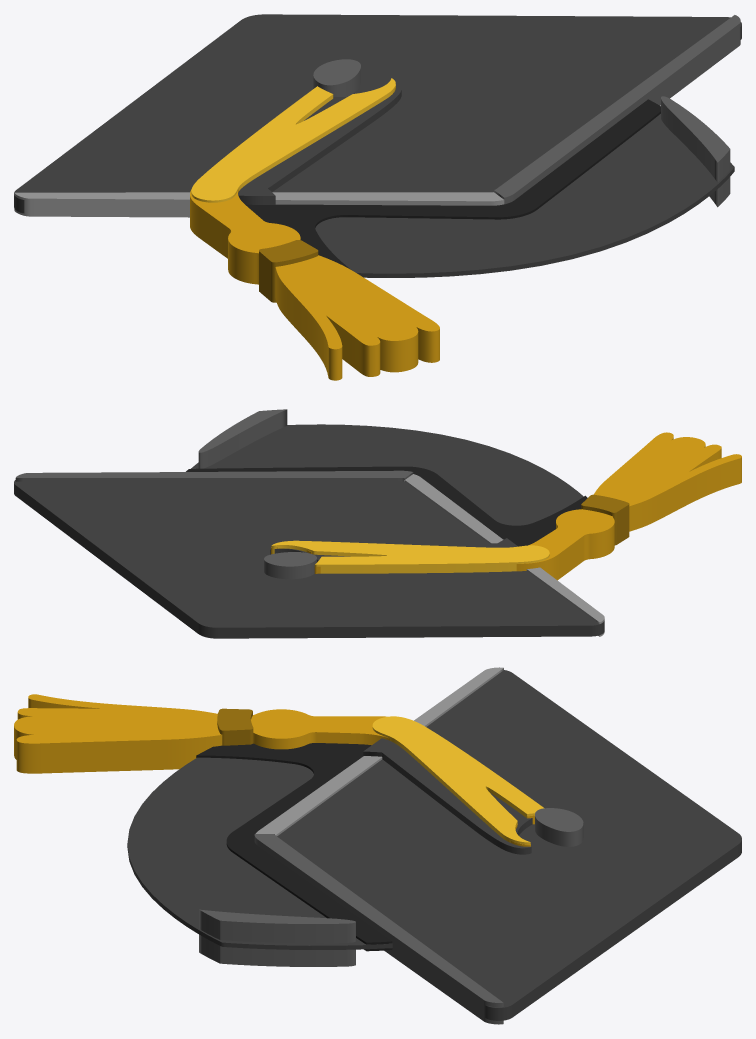
Rendered from emoji_u1f393.glb.
The picture shows the model from 3 angles, top to bottom: view 1: azimuth 30°, elevation 25°; view 2: azimuth 150°, elevation 25°; view 3: azimuth 270°, elevation 25°; orthographic projection. The views are drawn at different scales.
Parts seen in each view (by area): view 1: emoji_u1f393; view 2: emoji_u1f393; view 3: emoji_u1f393.
Boxes of the visible parts, x1,y1,x2,y2 form: emoji_u1f393: (14,14,741,380); emoji_u1f393: (14,409,741,638); emoji_u1f393: (14,667,741,1024).
Bounding box in the file's own units: 0.0338 × 0.002 × 0.0307.
